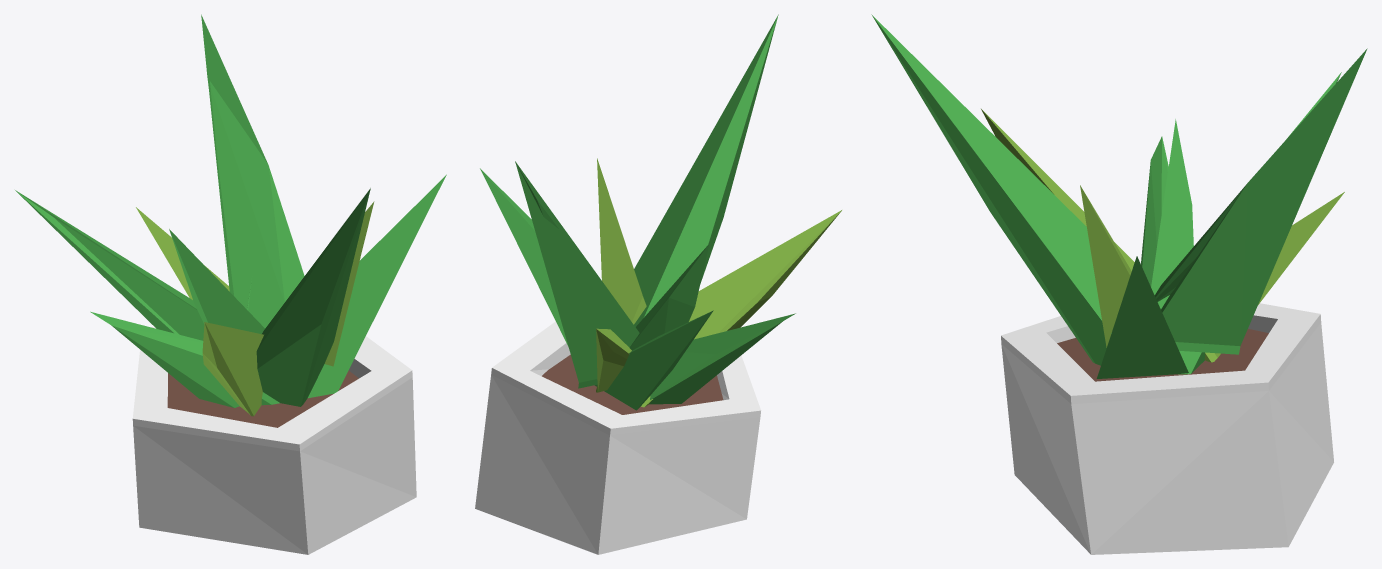
Rendered from plant.obj.
3 renders of one model, left to right at view 1: azimuth 30°, elevation 25°; view 2: azimuth 150°, elevation 25°; view 3: azimuth 270°, elevation 25°, orthographic. The views are drawn at different scales.
Visible parts, largest first — view 1: group7854860, group1119943561, group2002521463, group1104563999, group481990970, group2043820846, group1935184771, group634111619, group971385351, group792360013, group1265393450; view 2: group7854860, group2002521463, group1119943561, group1935184771, group2043820846, group481990970, group792360013, group634111619, group1104563999, group971385351, group1265393450; view 3: group7854860, group1119943561, group2002521463, group1104563999, group634111619, group792360013, group971385351, group2043820846, group1265393450, group1935184771.
Boxes of the visible parts, bbox=[...] form: group7854860: bbox=[132, 326, 416, 554]; group1119943561: bbox=[201, 14, 304, 328]; group2002521463: bbox=[256, 188, 370, 406]; group1104563999: bbox=[261, 174, 446, 405]; group481990970: bbox=[15, 190, 204, 340]; group2043820846: bbox=[90, 311, 239, 407]; group1935184771: bbox=[202, 322, 263, 416]; group634111619: bbox=[169, 229, 264, 333]; group971385351: bbox=[167, 370, 358, 427]; group792360013: bbox=[324, 201, 374, 366]; group1265393450: bbox=[136, 207, 229, 299]; group7854860: bbox=[475, 321, 761, 554]; group2002521463: bbox=[634, 14, 778, 327]; group1119943561: bbox=[515, 161, 639, 388]; group1935184771: bbox=[641, 210, 841, 407]; group2043820846: bbox=[649, 313, 795, 404]; group481990970: bbox=[595, 310, 713, 410]; group792360013: bbox=[597, 158, 646, 324]; group634111619: bbox=[629, 244, 709, 350]; group1104563999: bbox=[480, 168, 568, 346]; group971385351: bbox=[542, 354, 723, 414]; group1265393450: bbox=[596, 328, 631, 392]; group7854860: bbox=[1001, 303, 1333, 554]; group1119943561: bbox=[1154, 48, 1367, 354]; group2002521463: bbox=[871, 14, 1111, 365]; group1104563999: bbox=[1096, 256, 1188, 378]; group634111619: bbox=[1151, 119, 1193, 308]; group792360013: bbox=[1080, 185, 1131, 347]; group971385351: bbox=[1057, 328, 1268, 381]; group2043820846: bbox=[1141, 136, 1168, 286]; group1265393450: bbox=[1204, 192, 1344, 362]; group1935184771: bbox=[981, 109, 1134, 270].
Size of the model in its own units: 0.2494 by 0.2876 by 0.2799.
